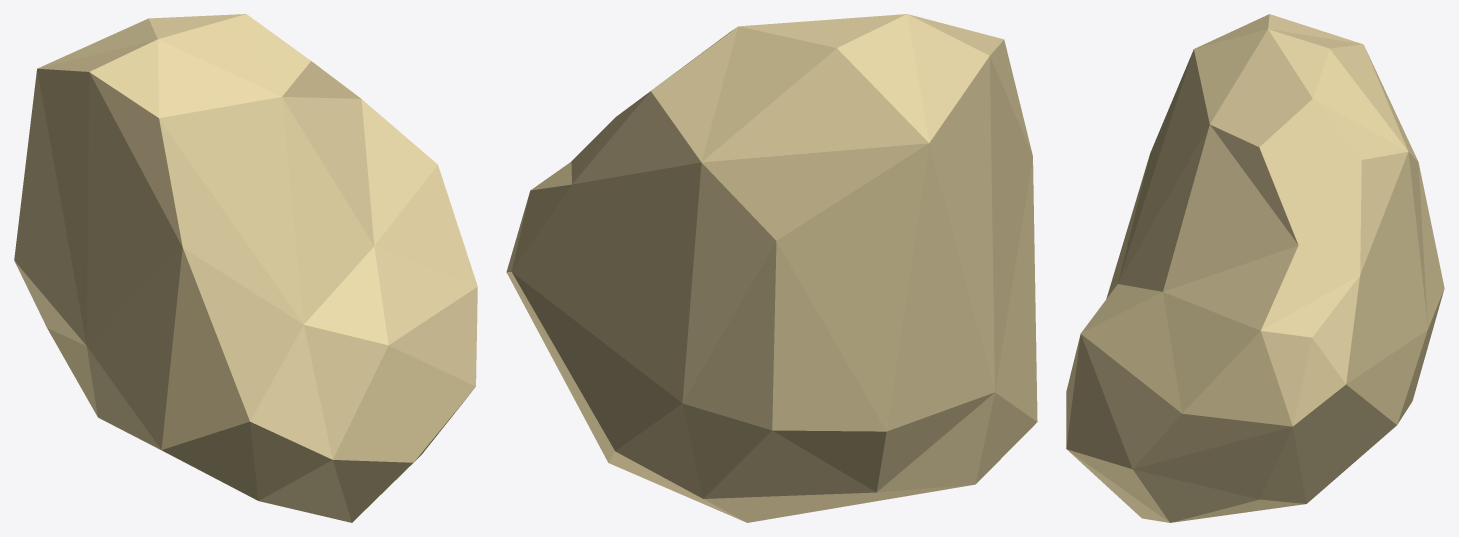
File: Rock (93).fbx
3 views of the same model, side by side, from view 1: azimuth 30°, elevation 25°; view 2: azimuth 150°, elevation 25°; view 3: azimuth 270°, elevation 25° (orthographic). The views are drawn at different scales.
Parts seen in each view (by area): view 1: Asteroid92; view 2: Asteroid92; view 3: Asteroid92.
Part boxes in pixels (x1,y1,x2,y2): Asteroid92: [14, 14, 477, 522]; Asteroid92: [506, 14, 1037, 522]; Asteroid92: [1066, 14, 1444, 522].
Bounding box in the file's own units: 61.52 × 71.4 × 56.65.
